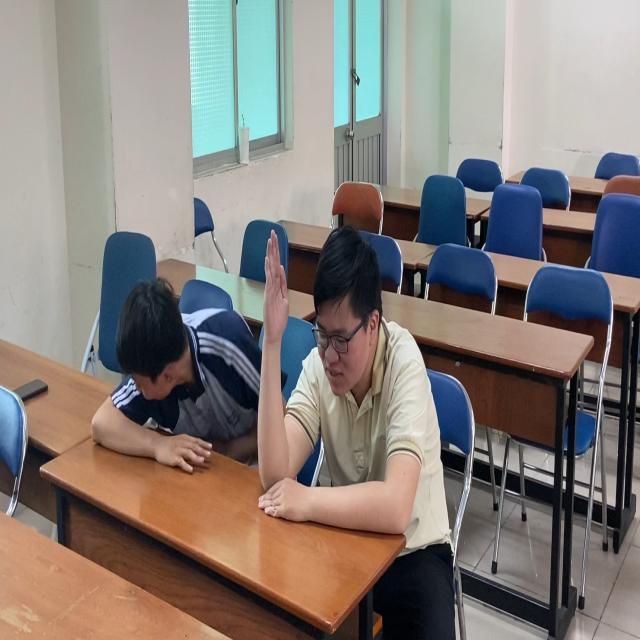raise_hand: (246, 188, 483, 581)
